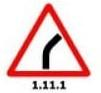road_sign: (5, 1, 93, 79)
